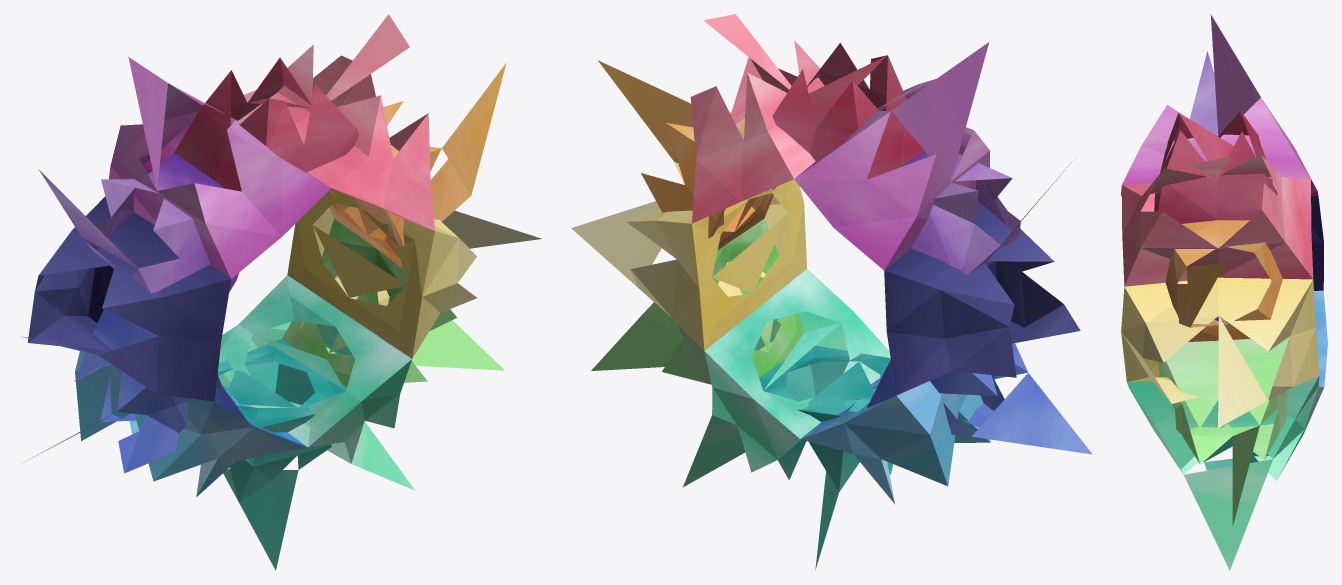
The model's file is masterShardReduced.fbx.
3 views of the same model, side by side, from view 1: azimuth 30°, elevation 25°; view 2: azimuth 150°, elevation 25°; view 3: azimuth 270°, elevation 25° (orthographic). The views are drawn at different scales.
Parts seen in each view (by area): view 1: MasterShard1; view 2: MasterShard1; view 3: MasterShard1.
Part boxes in pixels (<box>): MasterShard1: <box>17,14,541,570</box>; MasterShard1: <box>571,14,1092,569</box>; MasterShard1: <box>1121,14,1327,570</box>.
Size of the model in its own units: 7.96 by 8.13 by 3.21.
12 materials, 12 textured.
